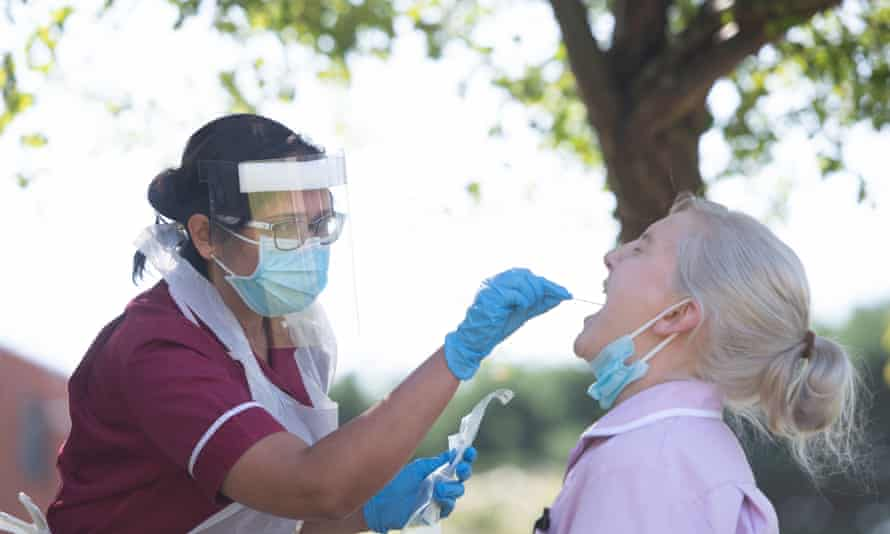Face_Shield: (228, 150, 345, 349)
Gloves: (435, 264, 573, 390), (358, 436, 487, 534)
mask_weared_incorrect: (566, 226, 686, 415)
with_mask: (234, 198, 337, 323)
